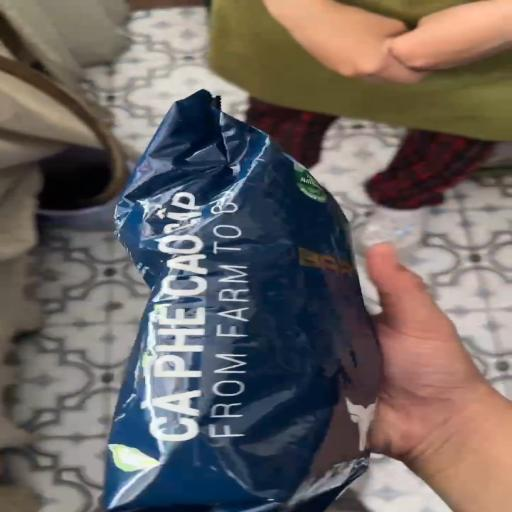cafe_hat: (101, 90, 380, 512)
